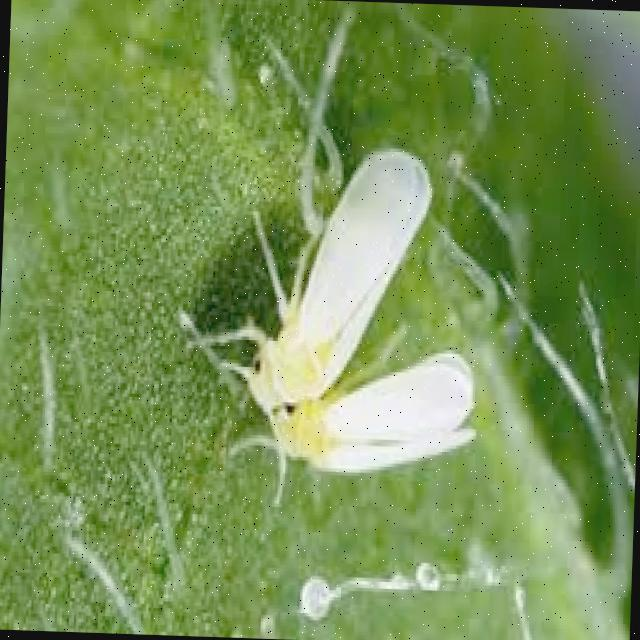whitefly: (181, 100, 514, 527)
